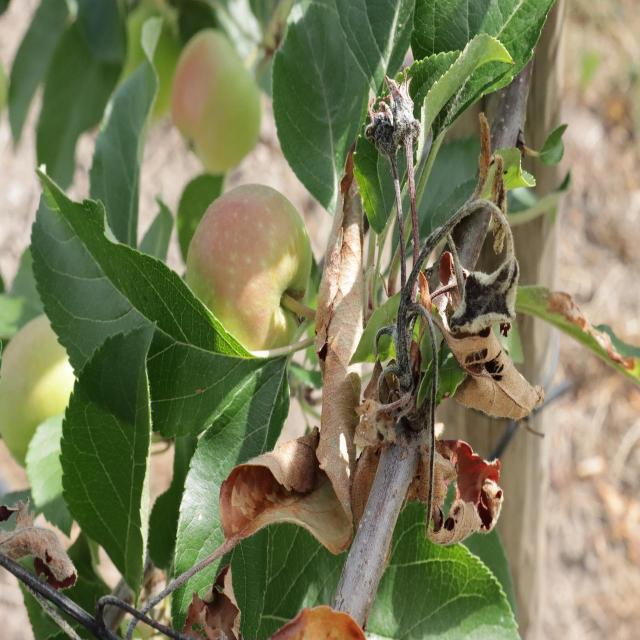-FireBlight-: (211, 96, 557, 546)
